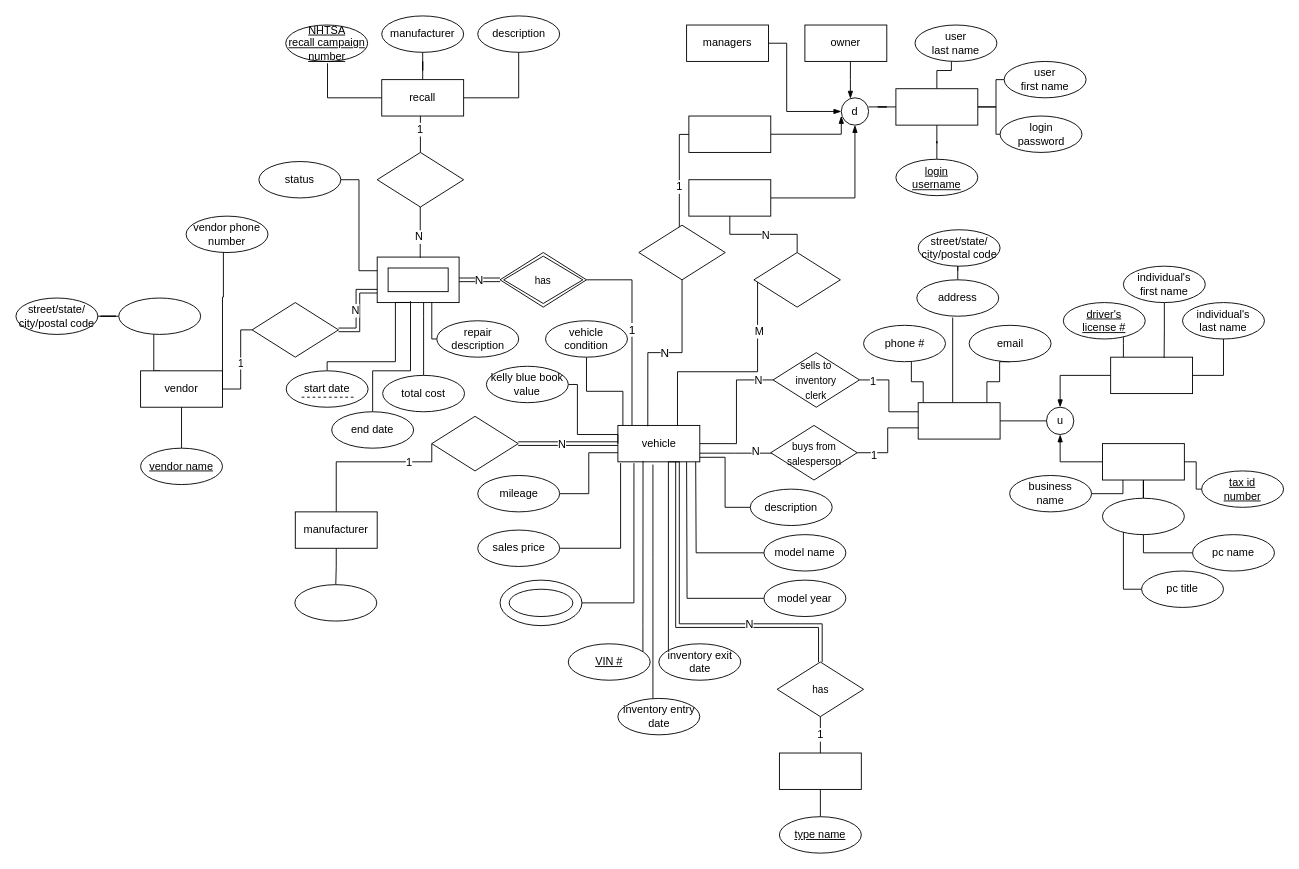
Image size: 1299x869. Some labels were removed from this diagram. The centre of each missing label's shape, as x and y in pixels:
"add vehicle" belongs at (x=681, y=252).
"business" belongs at (x=1143, y=461).
"color" belongs at (x=540, y=602).
"customer" belongs at (x=958, y=420).
"individual" belongs at (x=1151, y=375).
"inventory clerk" belongs at (x=729, y=133).
"made by" belongs at (x=474, y=443).
"manufacturer name" belongs at (x=335, y=602).
"performs" belongs at (x=295, y=329).
"primary contact" belongs at (x=1143, y=516).
"repair" belongs at (x=417, y=279).
"repair associated to vehicle recall" belongs at (x=420, y=179).
"salespeople" belongs at (x=729, y=197).
"sells to customer" belongs at (x=796, y=279).
"users" belongs at (x=936, y=106).
"vehicle type" belongs at (x=820, y=770).
"vendor address" belongs at (x=159, y=315).
